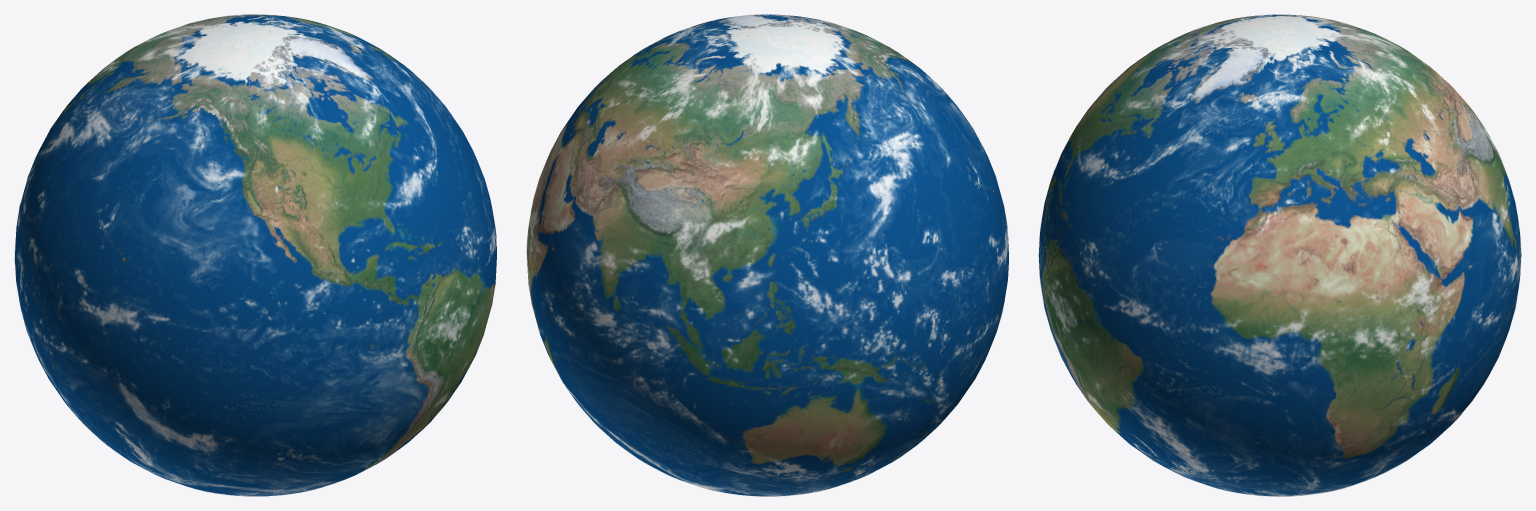
Rendered from earth.glb.
3 renders of one model, left to right at view 1: azimuth 30°, elevation 25°; view 2: azimuth 150°, elevation 25°; view 3: azimuth 270°, elevation 25°, orthographic.
Visible parts, largest first — view 1: Earth, Clouds; view 2: Earth, Clouds; view 3: Earth, Clouds.
Part boxes in pixels (<box>): Earth: <box>15,14,496,496</box>; Clouds: <box>14,14,496,496</box>; Earth: <box>527,14,1008,496</box>; Clouds: <box>526,14,1008,496</box>; Earth: <box>1038,14,1521,496</box>; Clouds: <box>1039,14,1521,496</box>.
Size of the model in its own units: 4.88 by 4.88 by 4.88.
Materials: 2 (2 with a texture image).
